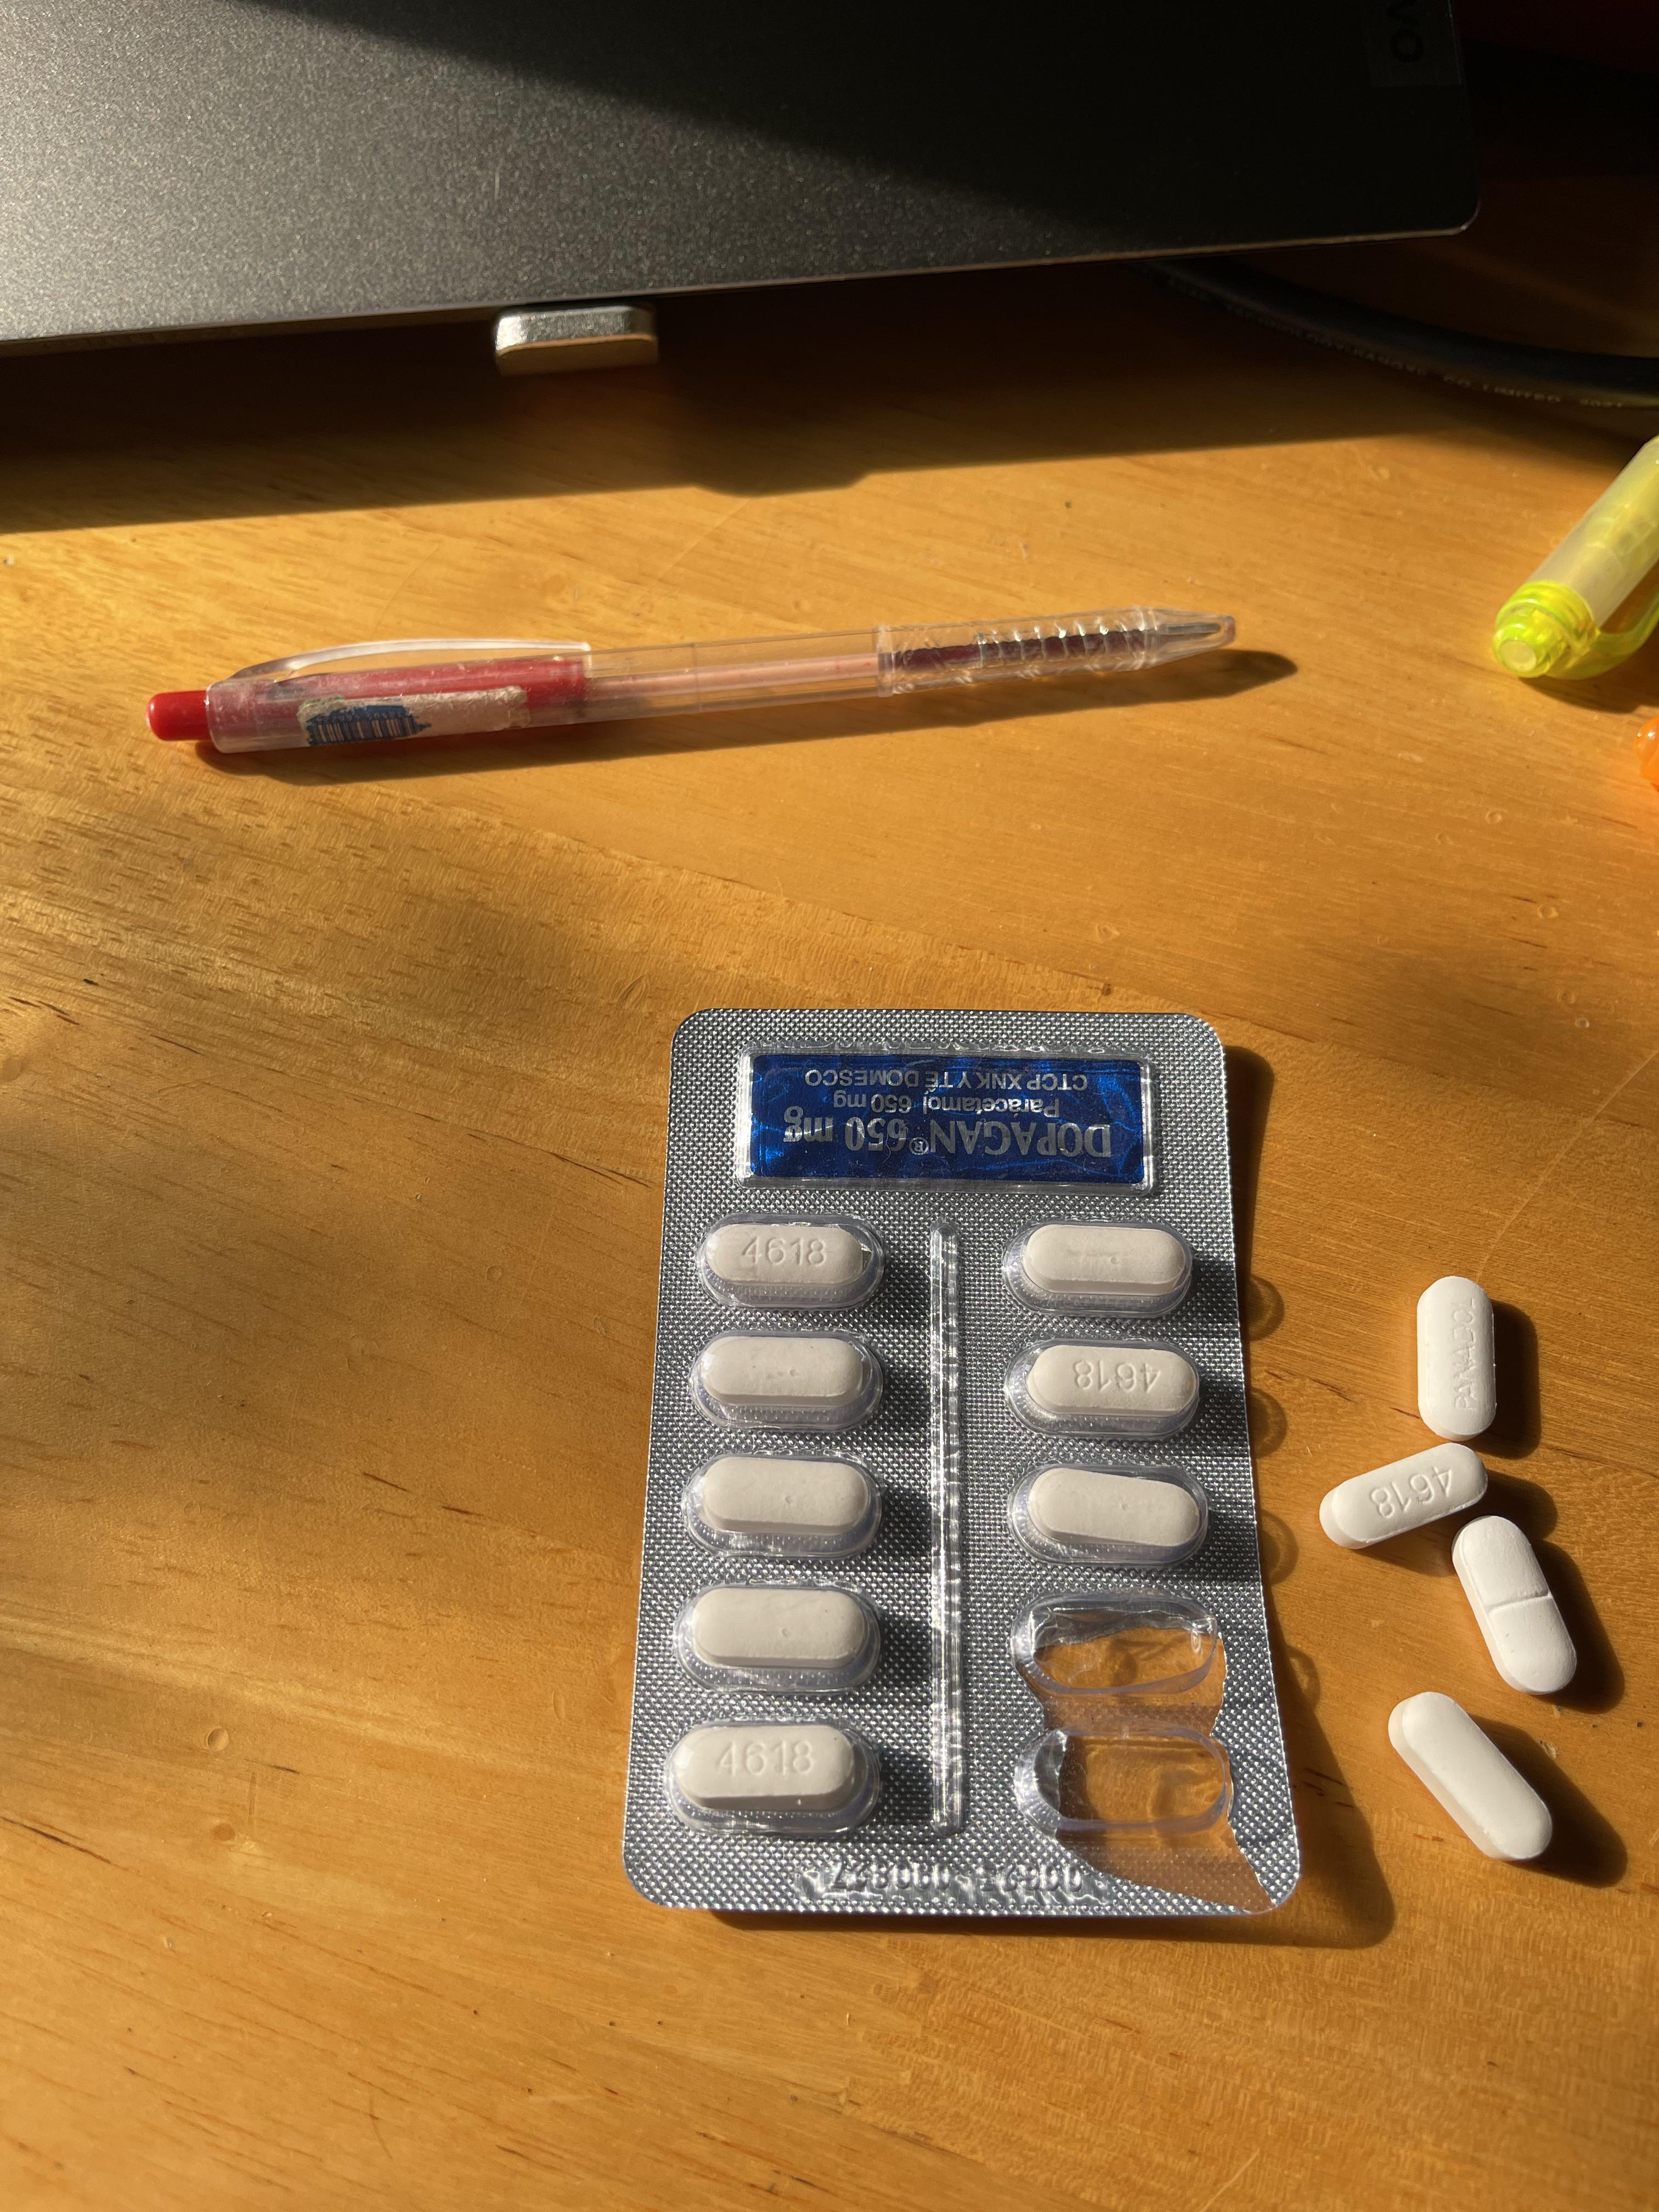Paracetamol_350mg: (1450, 1514, 1577, 1695), (1415, 1277, 1499, 1442)
Paracetamol_500mg: (1389, 1693, 1554, 1865), (680, 1583, 882, 1686), (1321, 1440, 1490, 1552), (690, 1453, 878, 1547), (1006, 1219, 1194, 1308), (1019, 1339, 1199, 1432), (674, 1726, 863, 1813), (695, 1216, 882, 1303), (1018, 1468, 1208, 1554), (690, 1332, 877, 1416)
